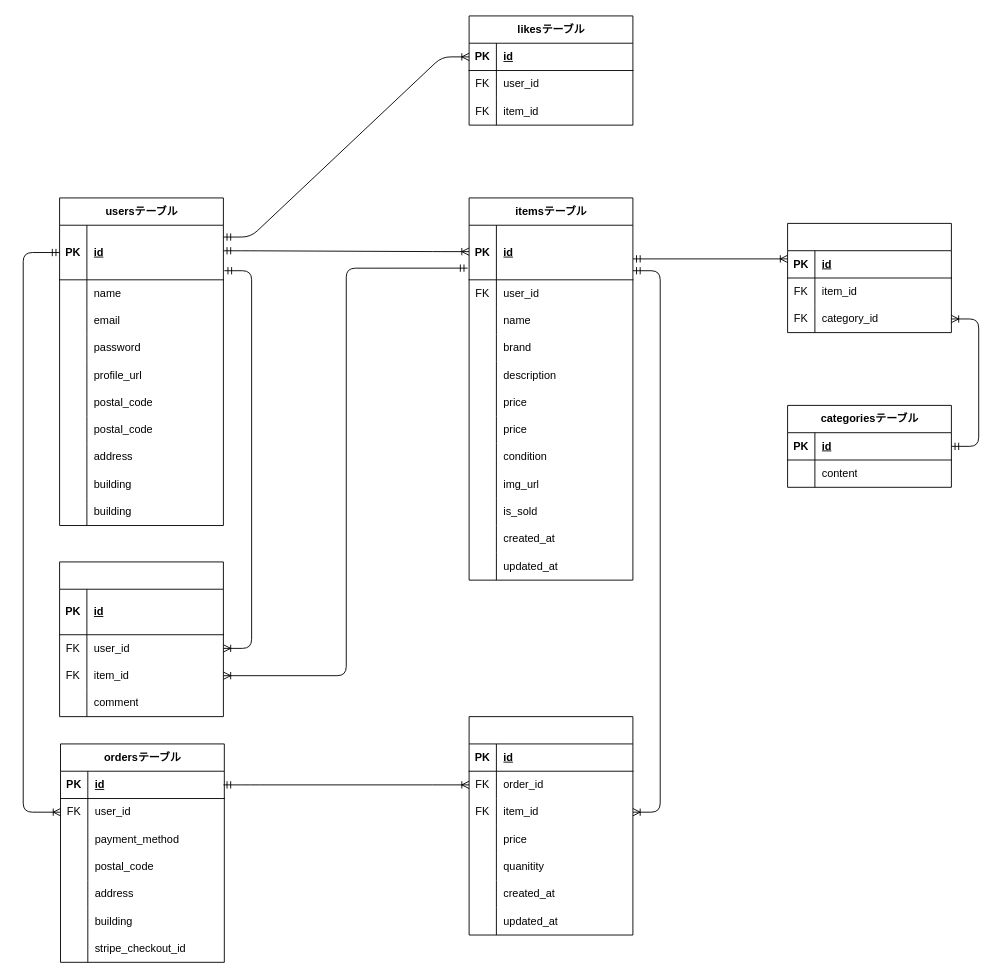
This 1003x978 diagram has some shape labels left out. The box of each missing label's shape, as (x1, y1, x2, y2) in pixels:
category_itemテーブル: (787, 222, 951, 333)
commentテーブル: (59, 561, 223, 717)
order_detailテーブル: (468, 716, 633, 935)
